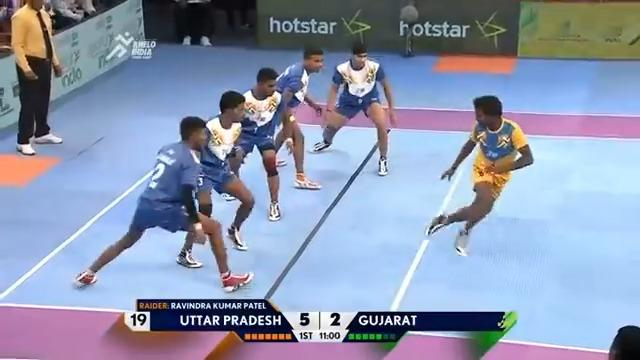Player: (74, 115, 254, 292), (175, 89, 255, 267), (307, 41, 397, 176), (223, 66, 287, 221), (271, 46, 324, 190)
Raider: (424, 94, 534, 256)
referee: (9, 0, 64, 155), (173, 0, 214, 46), (398, 3, 419, 56)
